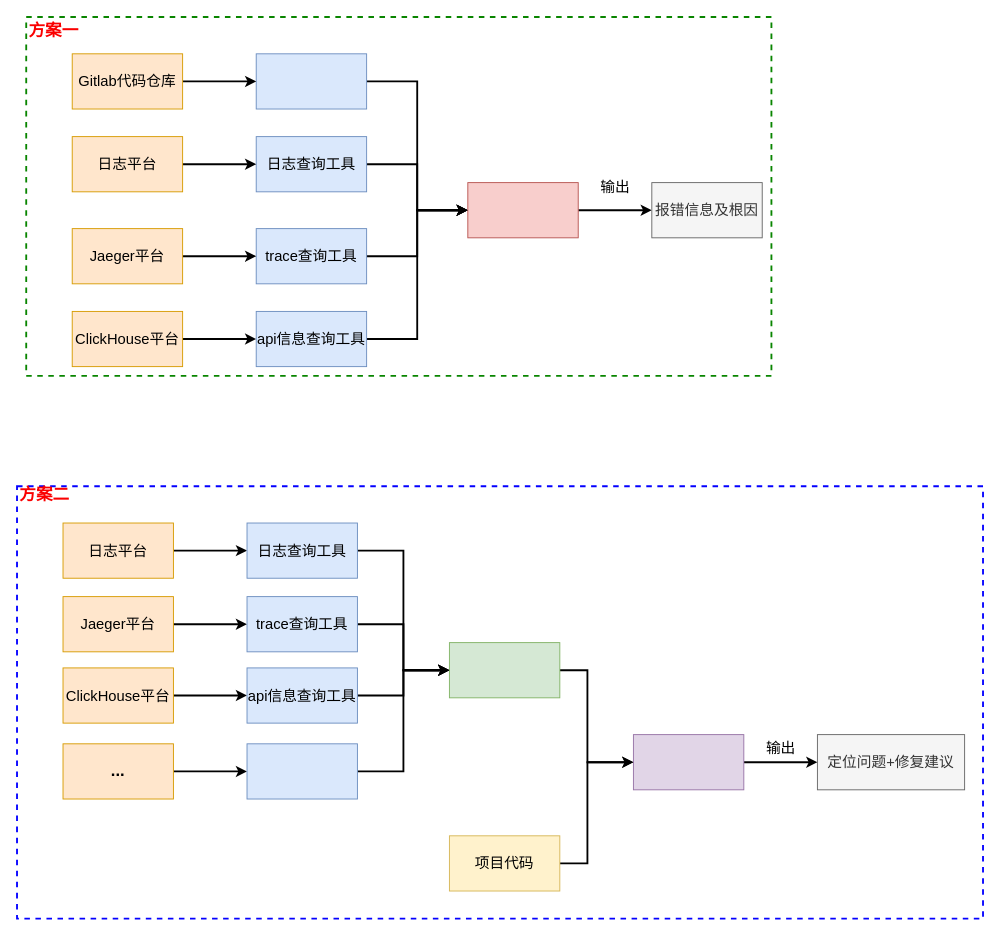
The diagram is 999 pixels wide and 935 high, and some of its shapes have lost their labels. Here are the shapes that lost their labels. From the top down, the centre of each, then its label:
point 311,81: Gitlab代码仓库检索工具
point 522,210: AI Dod问题定位Agent
point 504,670: MCP Server
point 301,771: 其他工具
point 688,762: Cursor Agent
